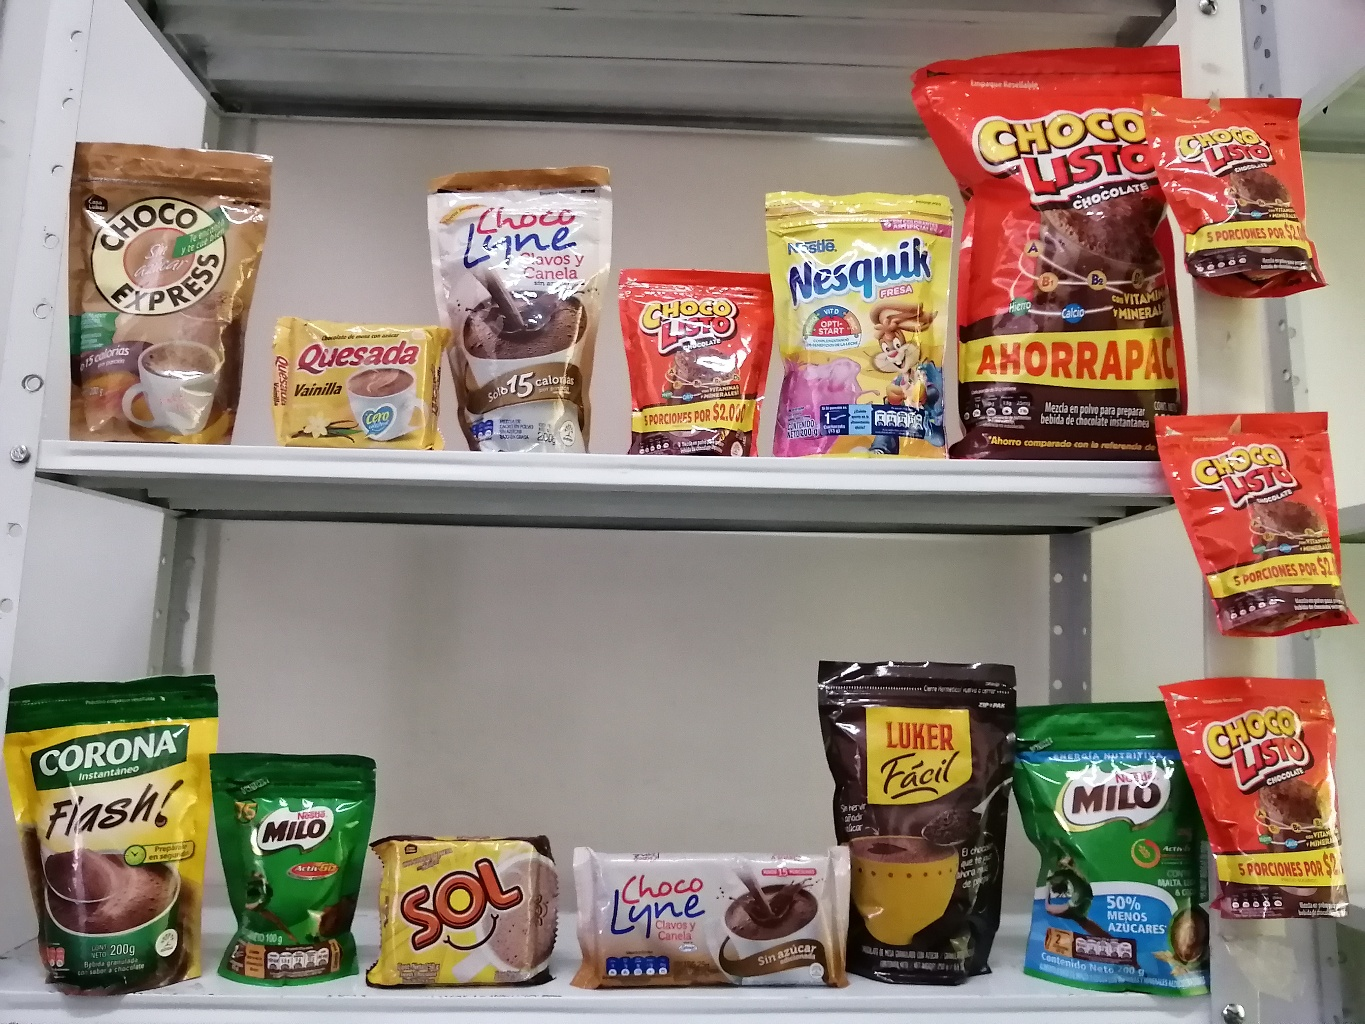COL0170103DYP1,500: (922, 44, 1234, 470)
COL0170203DYP10000: (208, 744, 390, 987)
COL0170205DYP20000: (1018, 693, 1205, 992)
COL0170305DYP20000: (758, 179, 950, 456)
